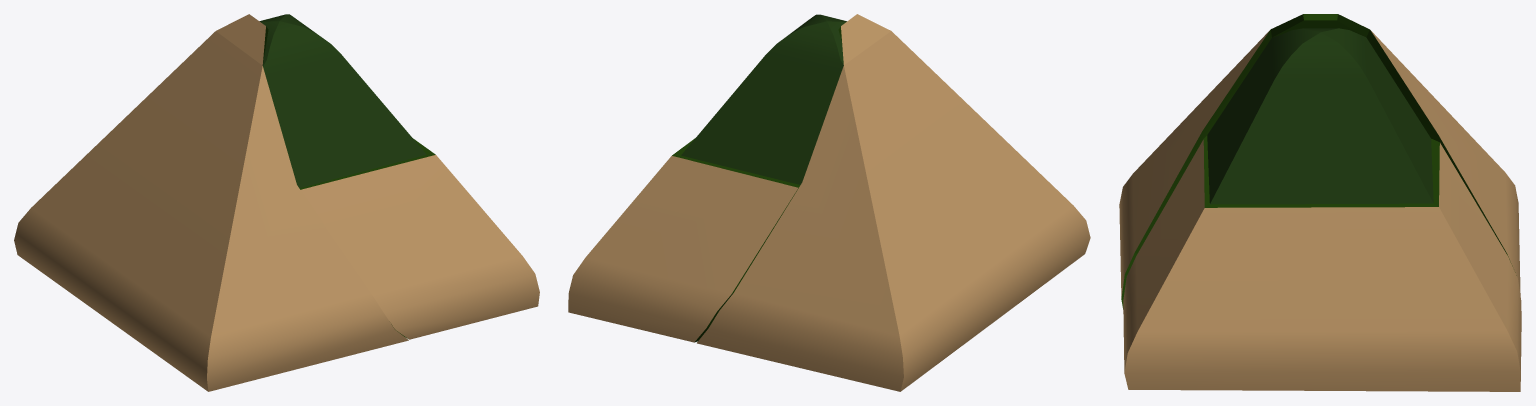
File: NasiLemakBungkus.fbx
3 views of the same model, side by side, from view 1: azimuth 30°, elevation 25°; view 2: azimuth 150°, elevation 25°; view 3: azimuth 270°, elevation 25° (orthographic). The views are drawn at different scales.
Parts seen in each view (by area): view 1: Nasi Lemak; view 2: Nasi Lemak; view 3: Nasi Lemak.
Part boxes in pixels (bbox=[...]): Nasi Lemak: bbox=[14, 14, 539, 391]; Nasi Lemak: bbox=[568, 14, 1090, 391]; Nasi Lemak: bbox=[1119, 14, 1521, 391].
Size of the model in its own units: 24.3 by 18.47 by 23.81.
